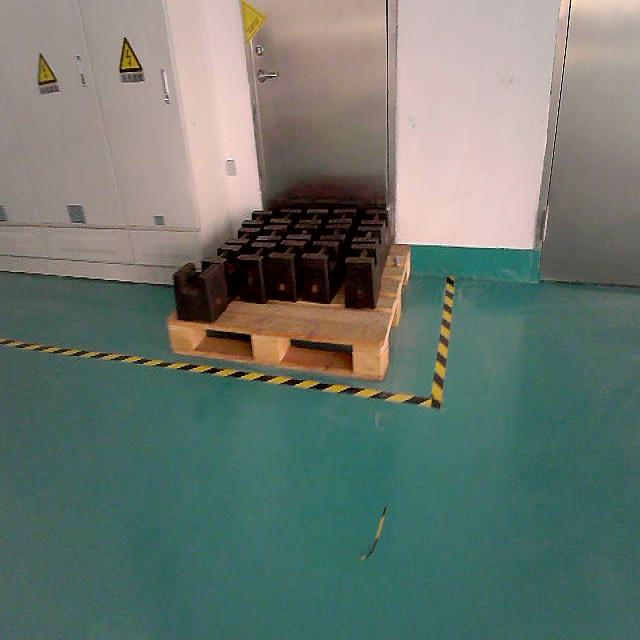euro: (168, 245, 409, 379)
